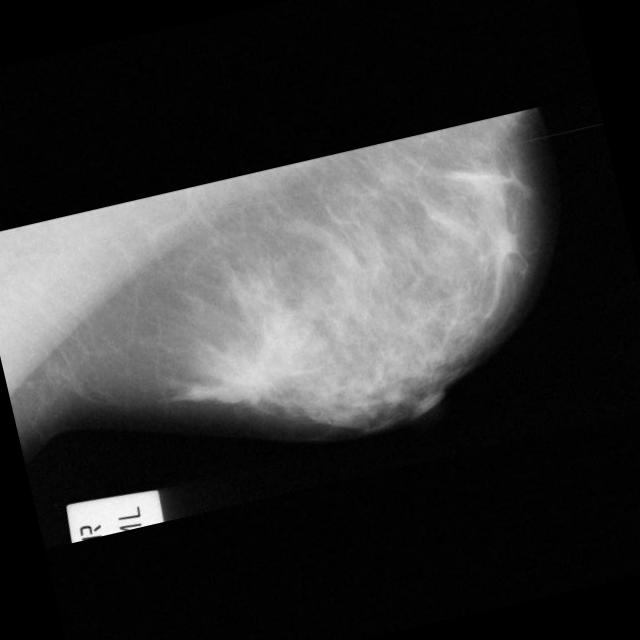SPIC: (197, 298, 337, 438)
